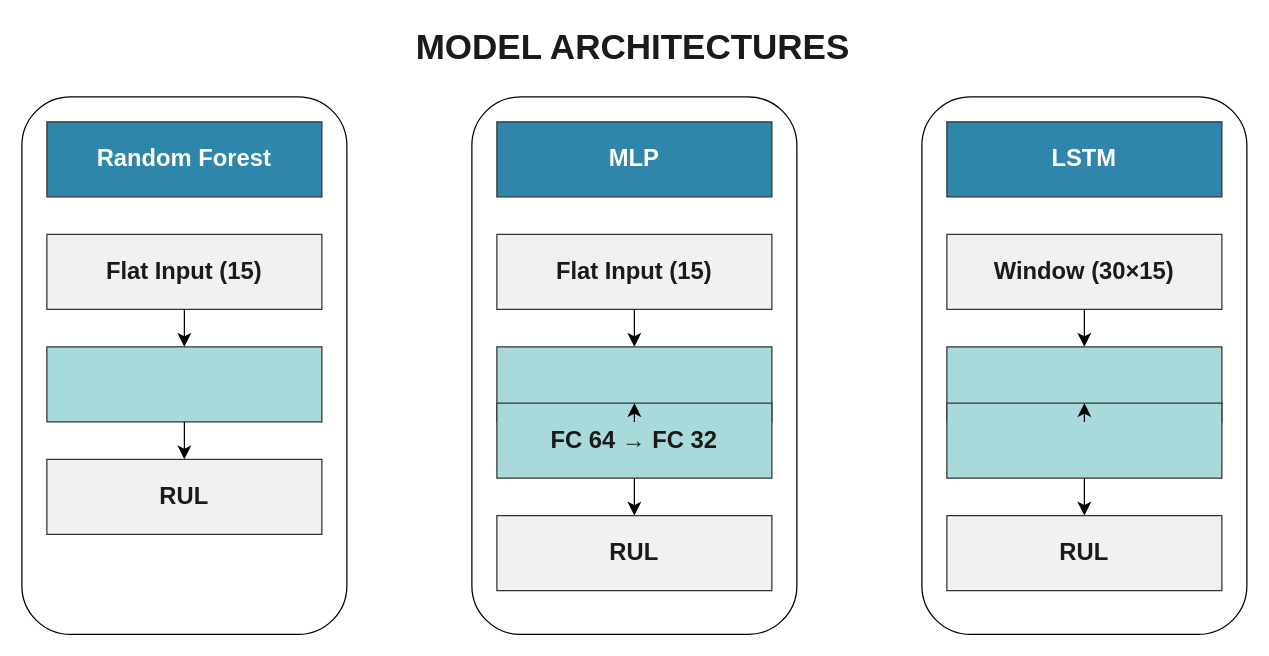
Some shapes in this 1269 by 656 pixel diagram are drawn without their labels. Here are the shapes that lost their labels. From the top down, the centre of each, then its label:
the point at 184,384: 100 Trees
the point at 634,384: FC 128 → BN → ReLU
the point at 1084,384: LSTM Layers
the point at 1084,440: FC 64 → ReLU
